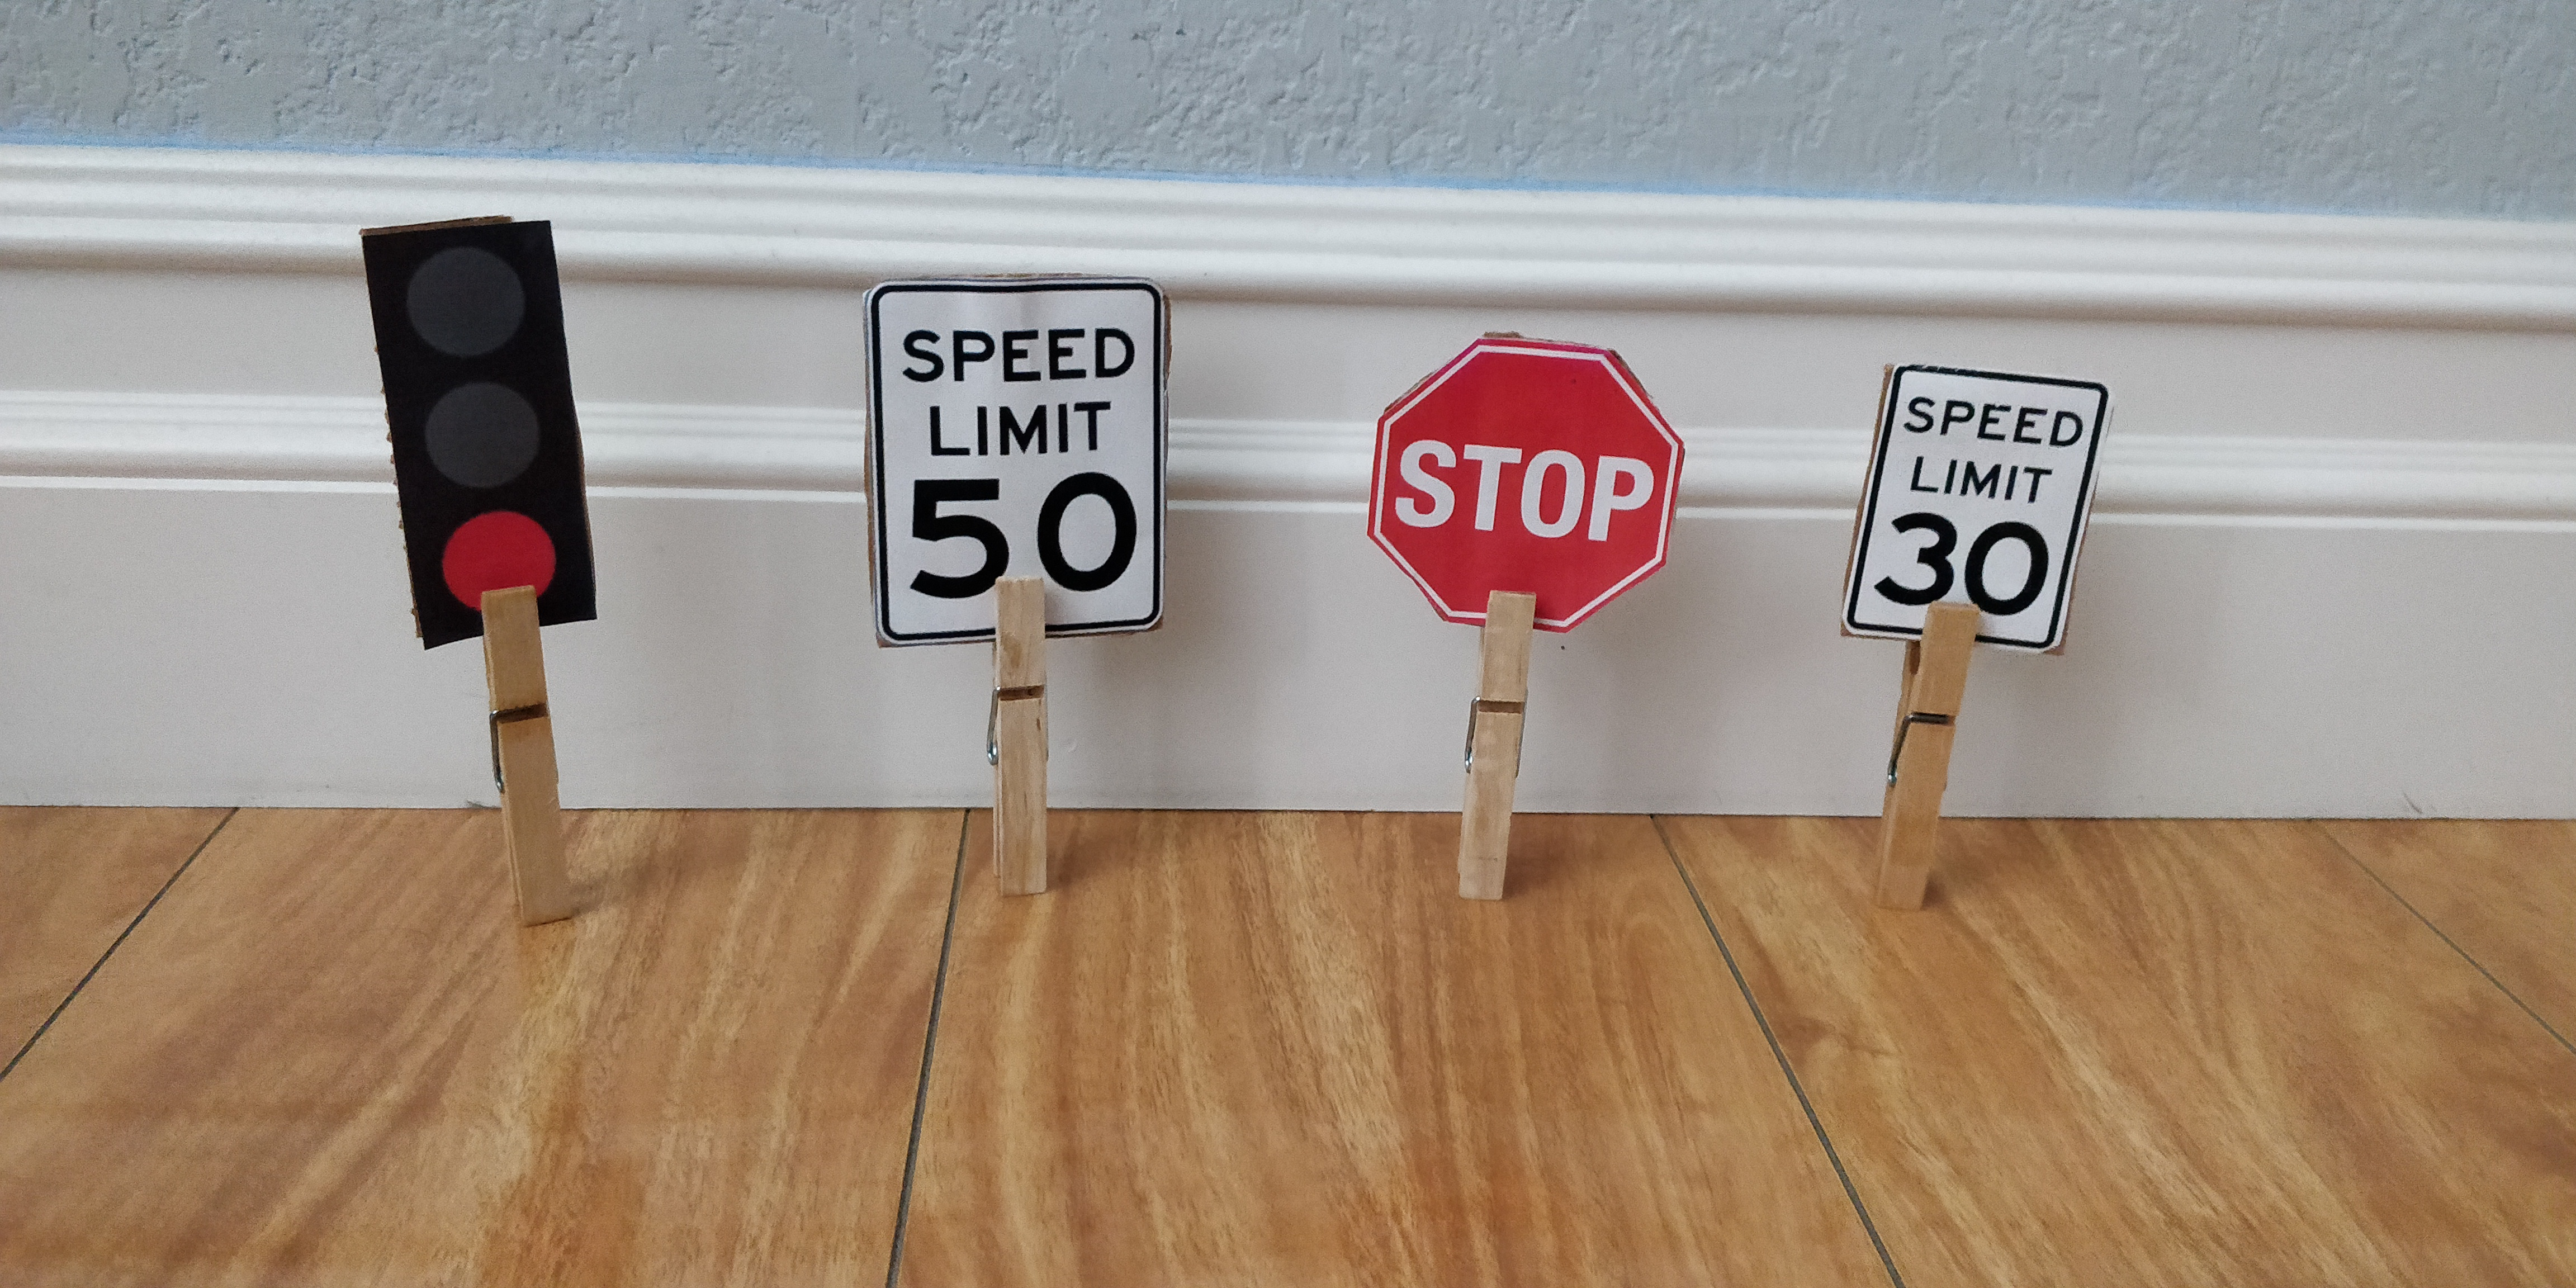Speed Limit 30: (1840, 363, 2113, 652)
Speed Limit 50: (867, 281, 1170, 644)
Stop Sign: (1364, 330, 1687, 631)
red light: (355, 214, 598, 646)
